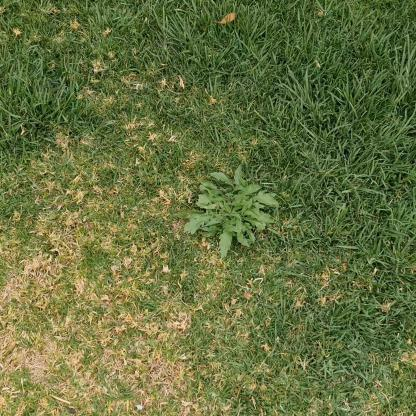Weeds: (178, 164, 279, 258)
